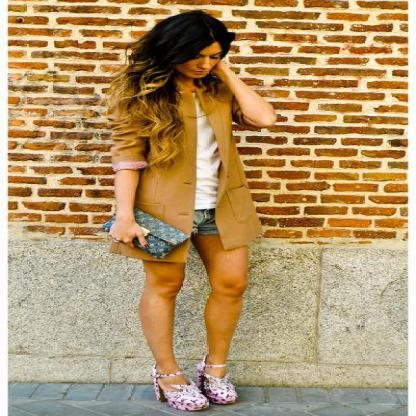bag: (92, 205, 186, 257)
jacket: (87, 83, 282, 271)
shirt: (194, 102, 220, 210)
shoe: (158, 359, 237, 411)
shorts: (192, 208, 218, 234)
